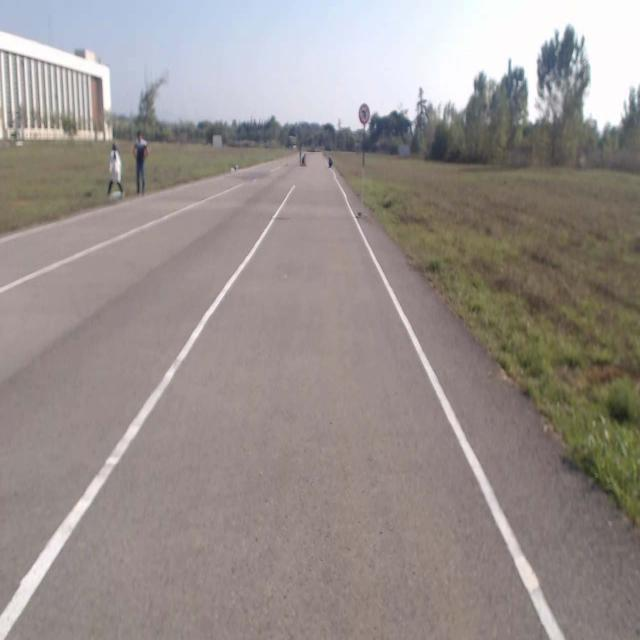soladonulmez: (358, 104, 370, 124)
